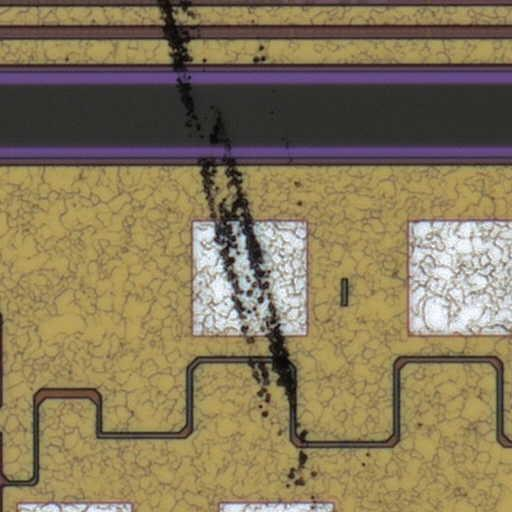SCRATCH: (147, 1, 335, 512)
